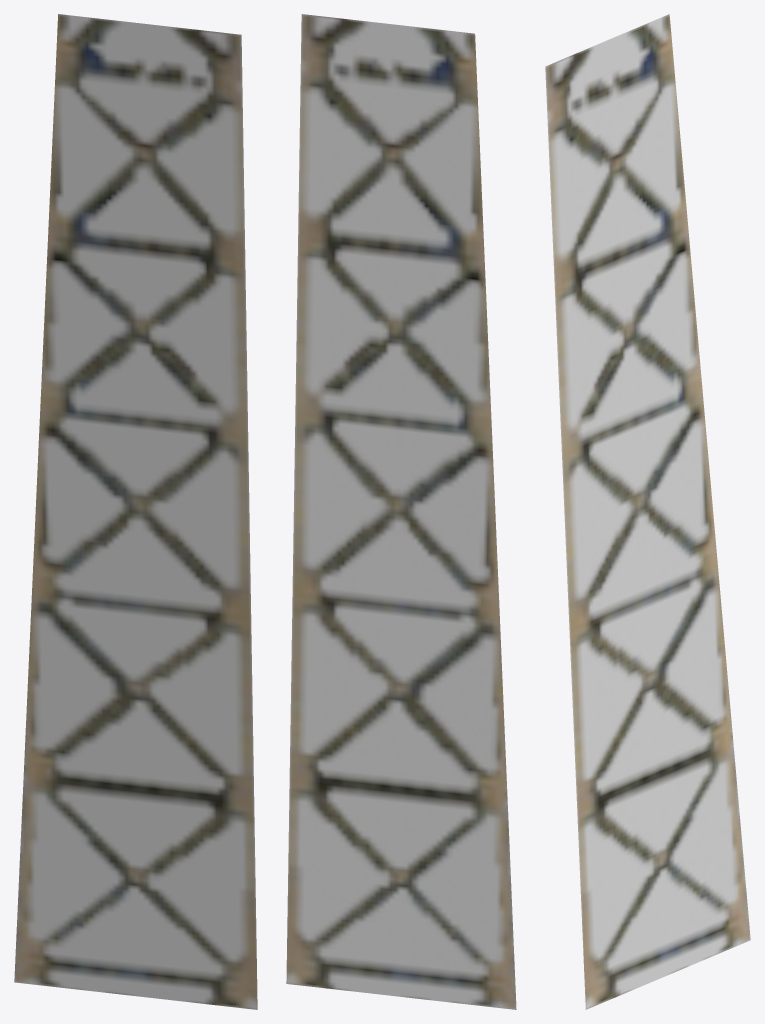
Rendered from 埃菲尔铁塔50.dae.
3 renders of one model, left to right at view 1: azimuth 30°, elevation 25°; view 2: azimuth 210°, elevation 25°; view 3: azimuth 270°, elevation 25°, orthographic. The views are drawn at different scales.
Visible parts, largest first — view 1: SketchUp; view 2: SketchUp; view 3: SketchUp.
Part boxes in pixels (left/top/right/bottom): SketchUp: left=14, top=14, right=257, bottom=1009; SketchUp: left=286, top=14, right=516, bottom=1009; SketchUp: left=545, top=14, right=750, bottom=1009.
Size of the model in its own units: 308 by 384 by 1909.
Materials: 1 (1 with a texture image).
